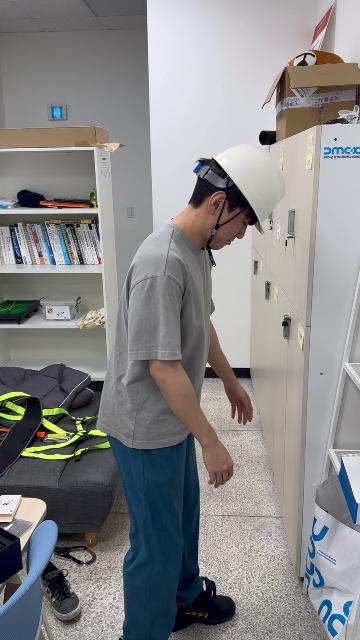helmet_worn: (208, 144, 285, 230)
shoe_not_worn: (38, 561, 81, 620)
shoe_worn: (172, 577, 235, 631)
vest_not_worn: (110, 226, 215, 446)
